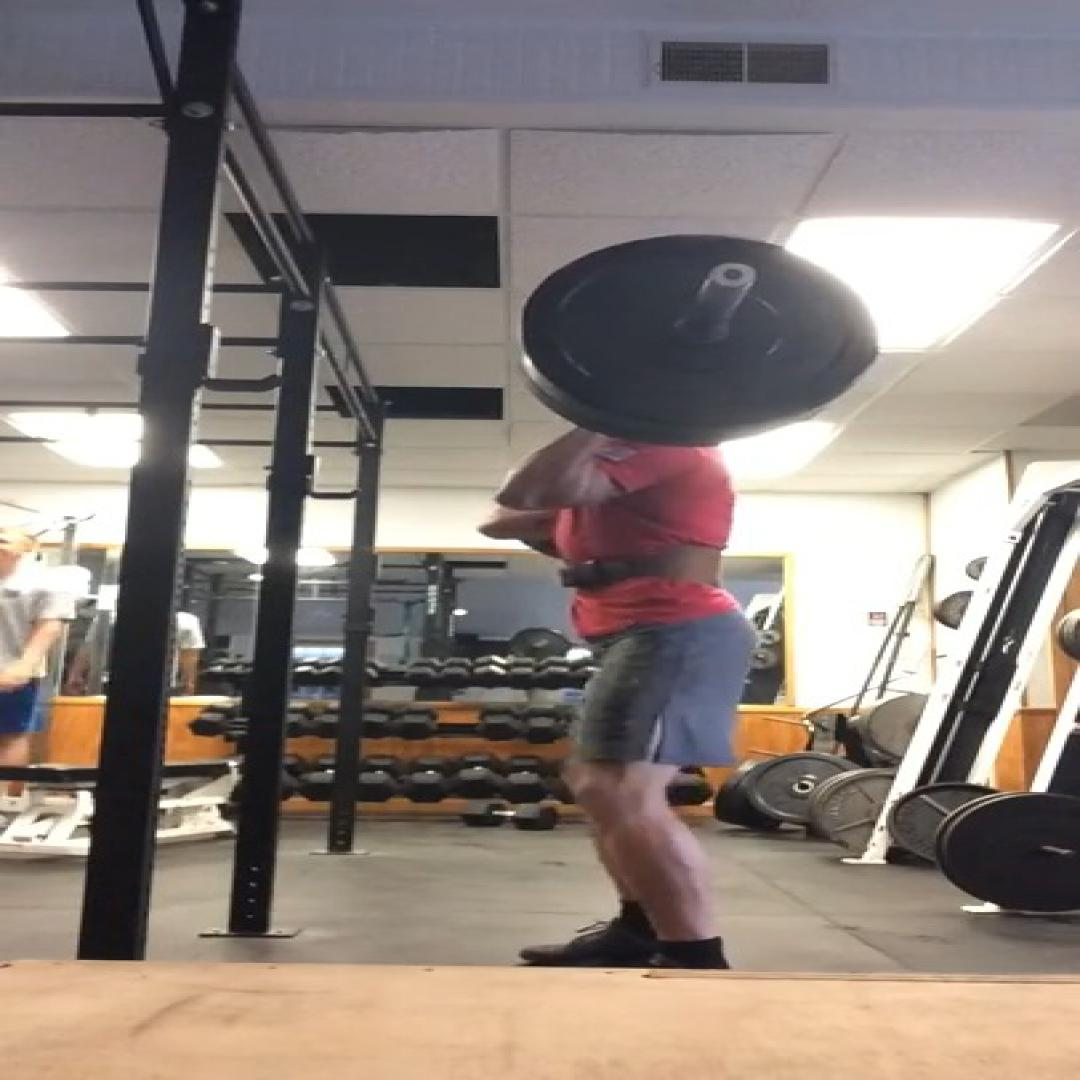Bar: (710, 264, 758, 288)
Barbell: (522, 234, 876, 423)
